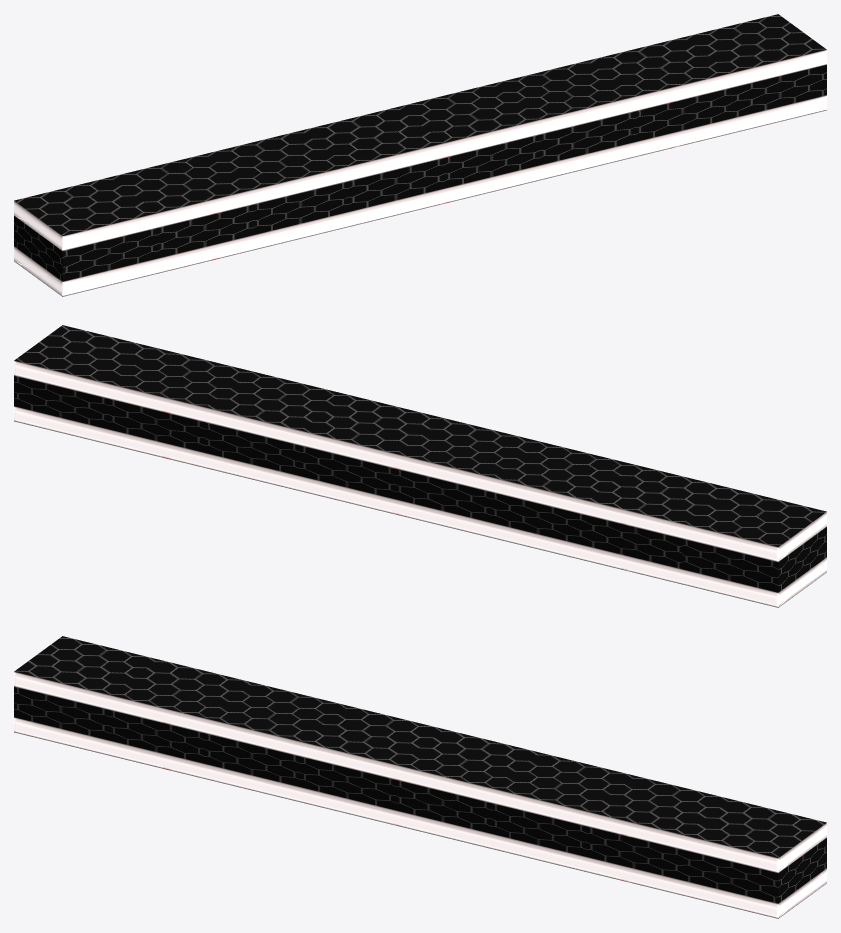
File: FUT0510002.fbx
3 views of the same model, one above another, from view 1: azimuth 30°, elevation 25°; view 2: azimuth 150°, elevation 25°; view 3: azimuth 330°, elevation 25° (orthographic).
Parts seen in each view (by area): view 1: smFUT0510002; view 2: smFUT0510002; view 3: smFUT0510002.
Part boxes in pixels (x1,y1,x2,y2): smFUT0510002: (14, 14, 826, 296); smFUT0510002: (14, 325, 826, 607); smFUT0510002: (14, 636, 826, 918).
Bounding box in the file's own units: 232 × 17.62 × 25.56.
Materials: 1 (1 with a texture image).
